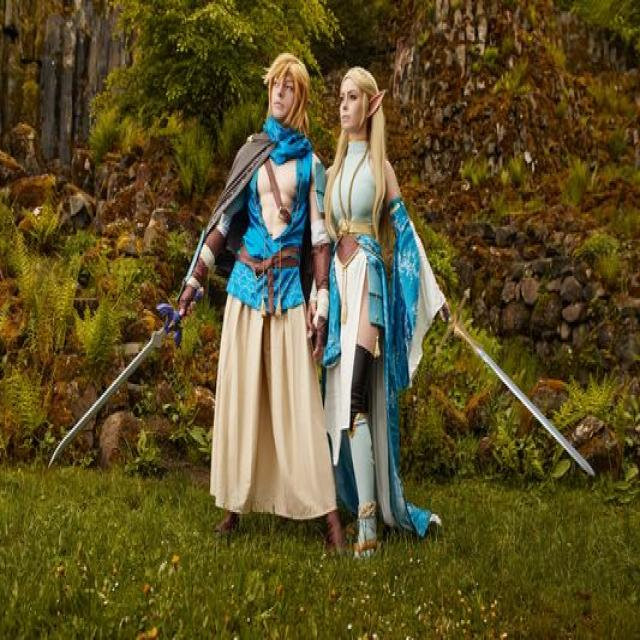knife: (436, 290, 594, 475), (47, 302, 184, 471), (1, 1, 1, 1)
